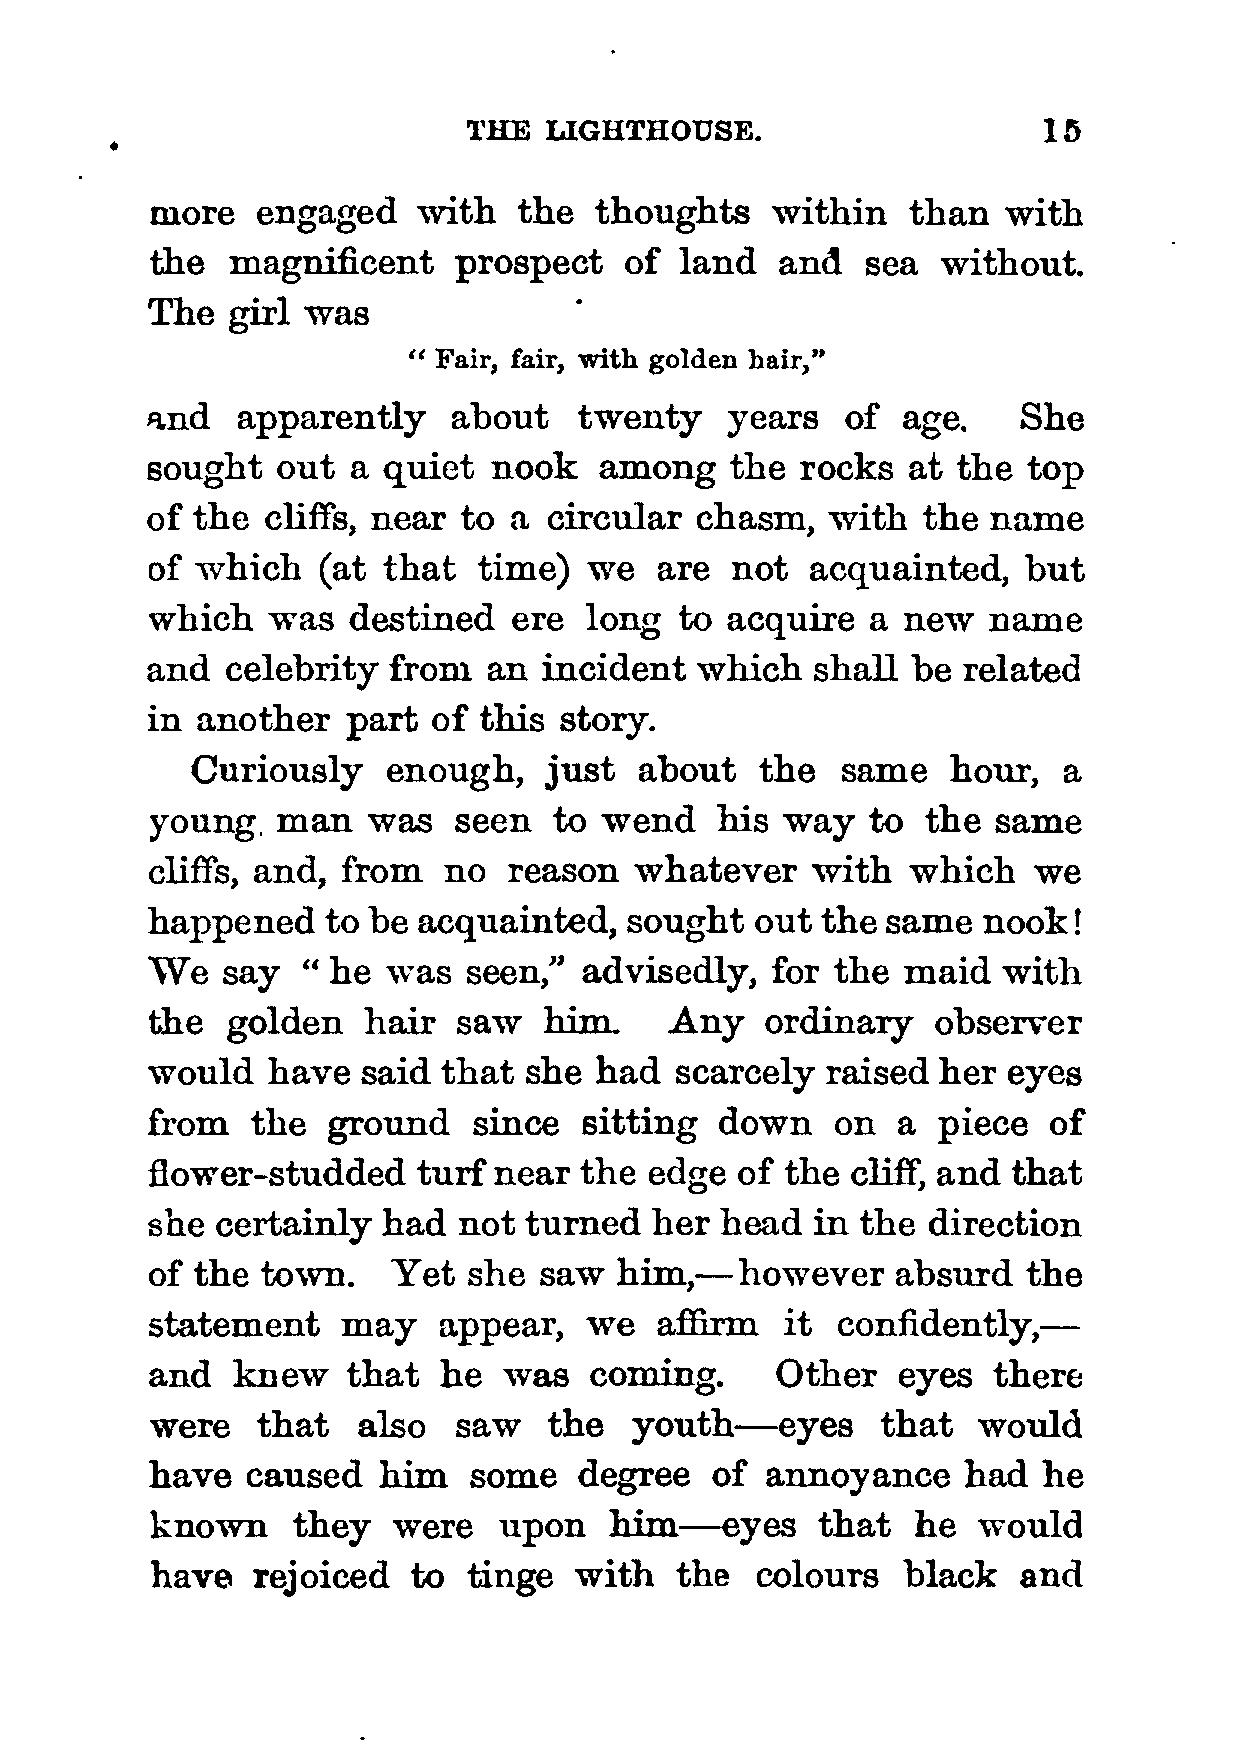content: (144, 188, 1087, 1600)
content_chapter: (462, 115, 761, 145)
content_pagenumber: (1041, 111, 1084, 154)
